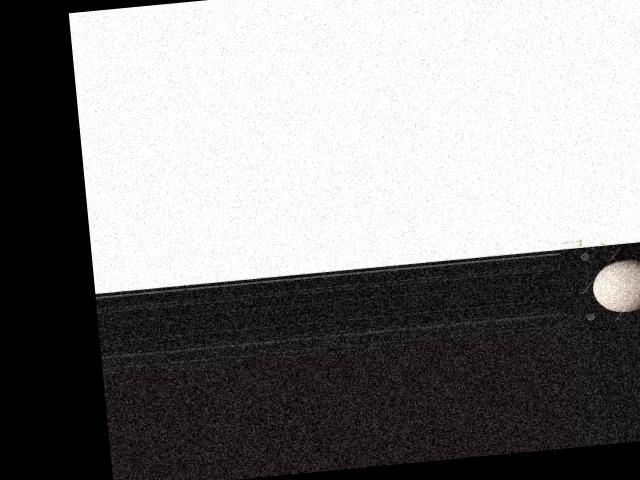egg: (589, 256, 640, 314)
